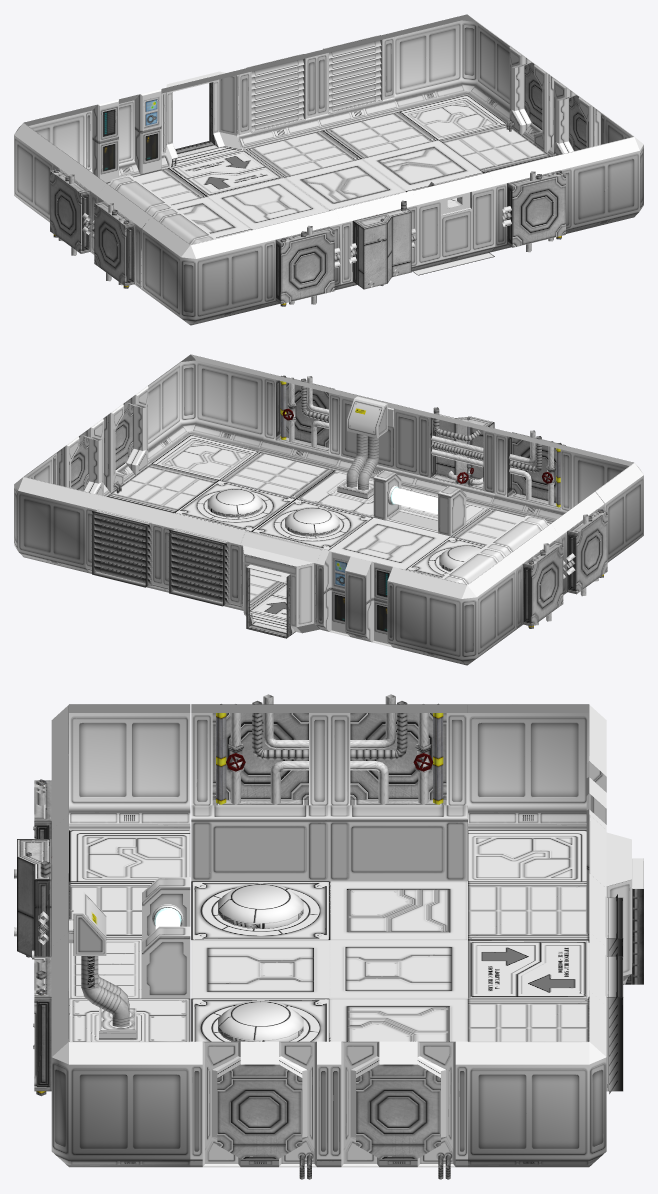
The model's file is Room_A.FBX.
The picture shows the model from 3 angles, top to bottom: view 1: azimuth 30°, elevation 25°; view 2: azimuth 150°, elevation 25°; view 3: azimuth 270°, elevation 25°; orthographic projection. The views are drawn at different scales.
Parts seen in each view (by area): view 1: Sect_Corner_A_010, Sect_Corner_A_013, Sect_Wall_K_003, Sect_Wall_E_008, Sect_Wall_D_008, Sect_Wall_D_007, Sect_Wall_J_005, Sect_Wall_J_006, Sect_Corner_A_012, Sect_Wall_B_004, Sect_Corner_A_011, Sect_Wall_D_009 (+17 smaller); view 2: Sect_Corner_A_011, Sect_Corner_A_012, Sect_Wall_K_003, Sect_Wall_D_007, Sect_Wall_J_005, Sect_Wall_J_006, Sect_Wall_B_004, Sect_Wall_E_008, Sect_Corner_A_013, Sect_Wall_D_008, Sect_Door_A_005, Sect_Corner_A_010 (+19 smaller); view 3: Sect_Corner_A_012, Sect_Corner_A_013, Sect_Wall_I_007, Sect_Wall_I_008, Sect_Corner_A_010, Sect_Corner_A_011, Sect_Wall_D_010, Sect_Wall_D_009, Sect_Floor_3_004, Sect_Floor_3_005, Sect_Floor_BaseD_007, Sect_Floor_BaseF_033 (+20 smaller).
Boxes of the visible parts, box(x1,y1,x2,y2) form: Sect_Corner_A_010: box(142, 216, 263, 325); Sect_Corner_A_013: box(394, 14, 509, 123); Sect_Wall_K_003: box(412, 172, 495, 271); Sect_Wall_E_008: box(335, 191, 417, 289); Sect_Wall_D_008: box(258, 209, 340, 308); Sect_Wall_D_007: box(490, 153, 572, 252); Sect_Wall_J_005: box(317, 31, 399, 130); Sect_Wall_J_006: box(240, 50, 322, 148); Sect_Corner_A_012: box(567, 110, 643, 233); Sect_Wall_B_004: box(85, 87, 167, 182); Sect_Corner_A_011: box(14, 106, 90, 222); Sect_Wall_D_009: box(91, 184, 150, 294); Sect_Corner_A_011: box(394, 556, 515, 665); Sect_Corner_A_012: box(148, 354, 263, 463); Sect_Wall_K_003: box(335, 390, 417, 499); Sect_Wall_D_007: box(258, 371, 340, 470); Sect_Wall_J_005: box(85, 493, 167, 592); Sect_Wall_J_006: box(162, 512, 245, 610); Sect_Wall_B_004: box(317, 549, 399, 648); Sect_Wall_E_008: box(412, 407, 495, 507); Sect_Corner_A_013: box(14, 450, 90, 573); Sect_Wall_D_008: box(490, 427, 572, 522); Sect_Door_A_005: box(240, 531, 322, 638); Sect_Corner_A_010: box(567, 446, 643, 562); Sect_Corner_A_012: box(51, 990, 190, 1167); Sect_Corner_A_013: box(468, 990, 606, 1167); Sect_Wall_I_007: box(190, 1041, 329, 1179); Sect_Wall_I_008: box(329, 1041, 467, 1179); Sect_Corner_A_010: box(51, 704, 190, 830); Sect_Corner_A_011: box(468, 704, 606, 830); Sect_Wall_D_010: box(329, 694, 467, 805); Sect_Wall_D_009: box(191, 694, 329, 805); Sect_Floor_3_004: box(191, 805, 330, 881); Sect_Floor_3_005: box(329, 805, 467, 881); Sect_Floor_BaseD_007: box(191, 881, 330, 939); Sect_Floor_BaseF_033: box(191, 940, 330, 998).
Size of the model in its own units: 24.68 by 4.48 by 18.17.
